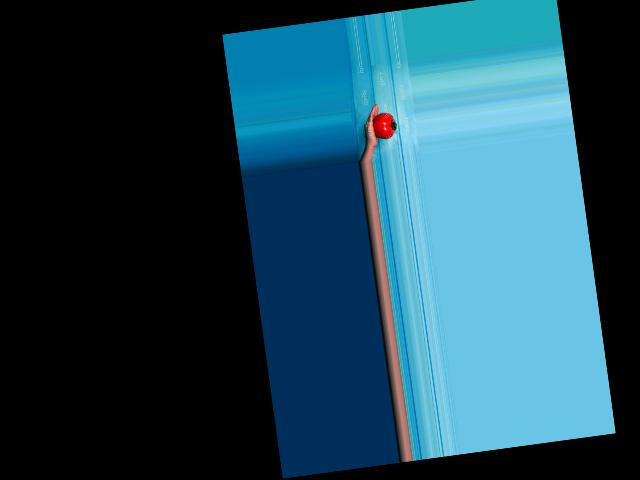tomato: (371, 110, 397, 139)
